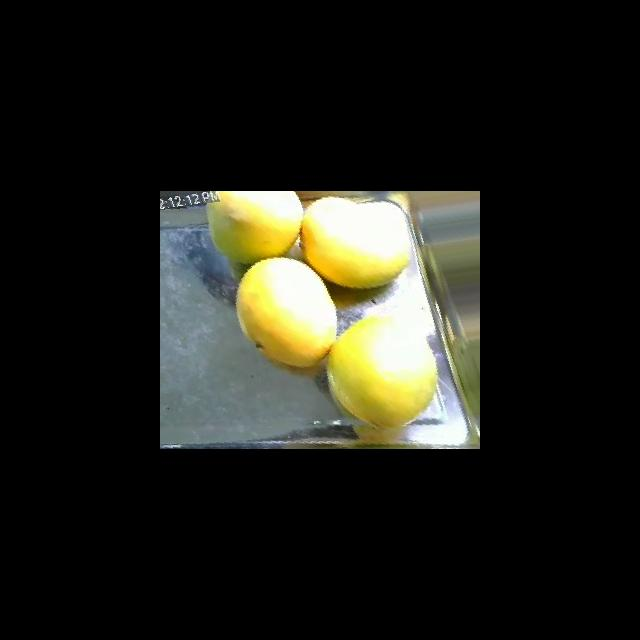Mango: (326, 312, 438, 431), (235, 256, 337, 368), (300, 195, 411, 289), (206, 191, 303, 264)
